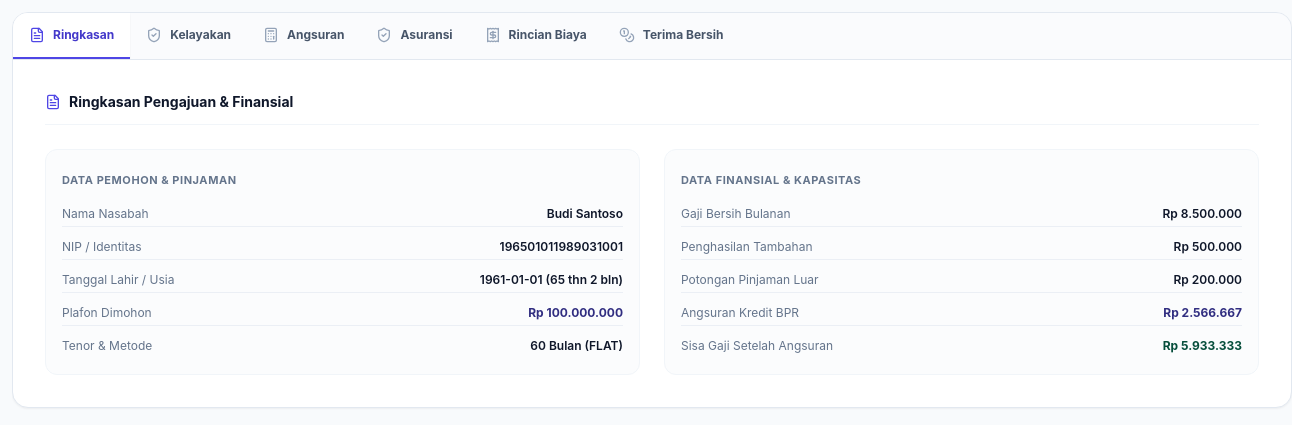
it: TASK-049: Result Detail Sections & Tab Breakdown Tests › should switch to Angsuran tab and display installment components
Click the button with test id "tab-angsuran": x=304, y=36 [247, 13, 360, 59]
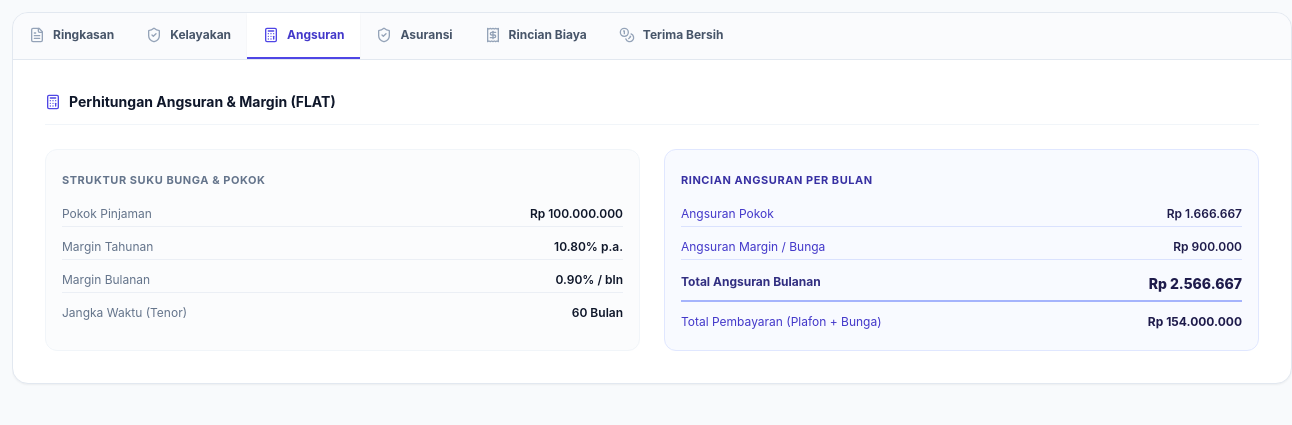
Result: the element with test id "tab-content-angsuran" is shown at [45, 92, 1259, 351]
Result: the text "Angsuran Pokok" is shown at [681, 206, 774, 222]
Result: the text "Angsuran Margin / Bunga" is shown at [681, 239, 825, 255]
